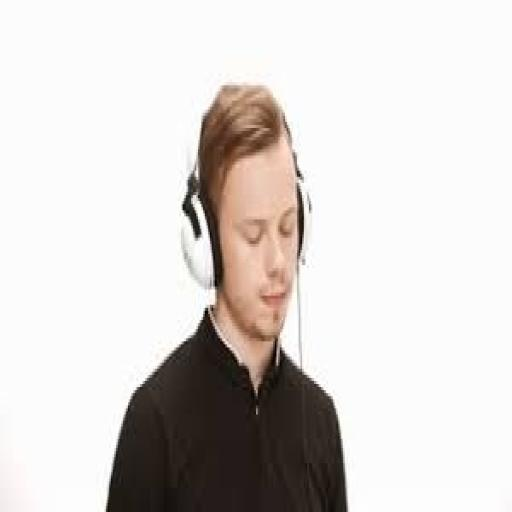listening_to_music: (102, 79, 350, 509)
